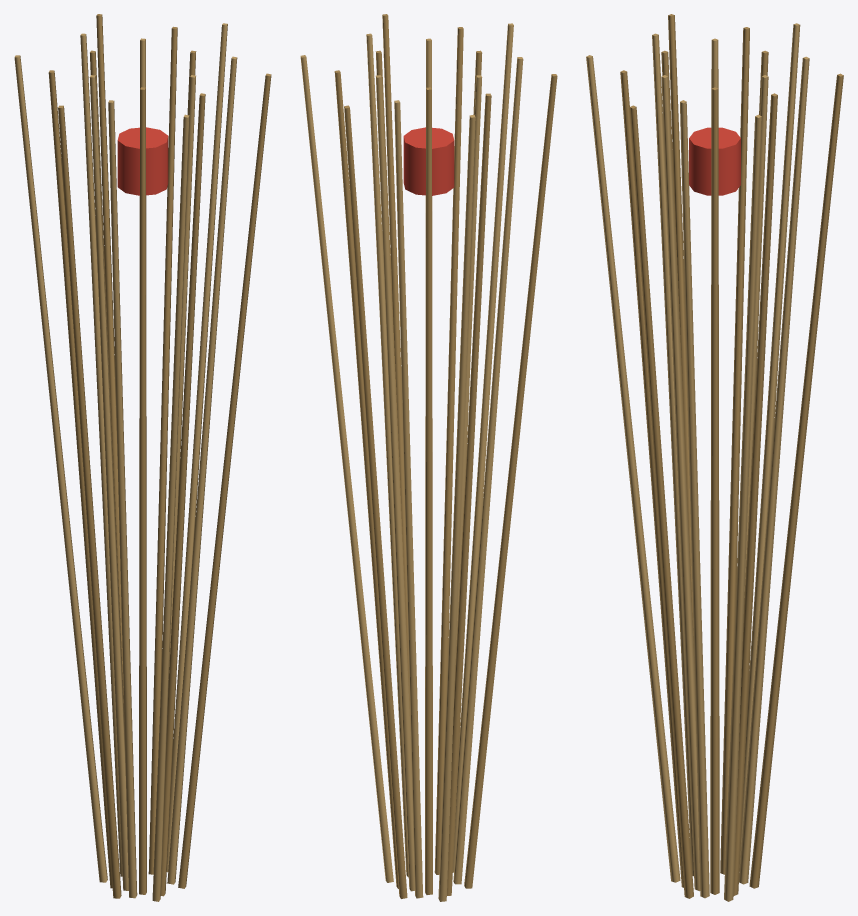
The model's file is prop_broom.fbx.
The picture shows the model from 3 angles, left to right: view 1: azimuth 30°, elevation 25°; view 2: azimuth 150°, elevation 25°; view 3: azimuth 270°, elevation 25°; orthographic projection.
Parts seen in each view (by area): view 1: M__prop_broom; view 2: M__prop_broom; view 3: M__prop_broom.
Boxes of the visible parts, box(x1,y1,x2,y2) form: M__prop_broom: box(14, 14, 271, 901); M__prop_broom: box(300, 14, 557, 901); M__prop_broom: box(586, 14, 843, 901).
Bounding box in the file's own units: 0.2853 × 1.05 × 0.2986.
